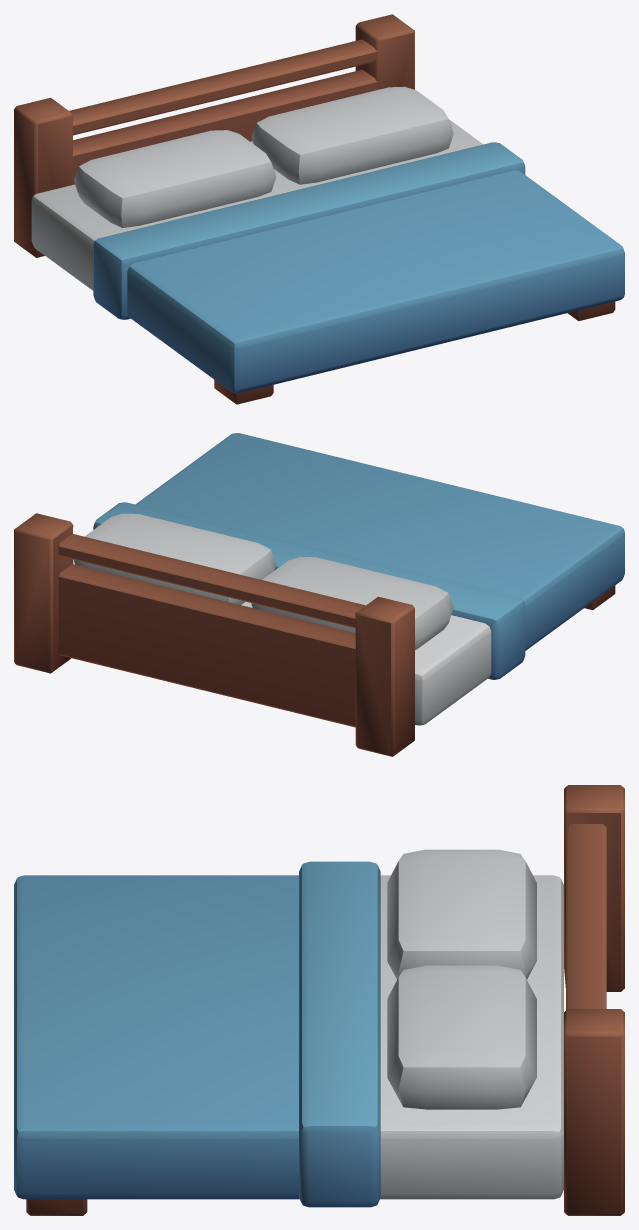
File: K_bed_double_A.glb
3 renders of one model, top to bottom at view 1: azimuth 30°, elevation 25°; view 2: azimuth 150°, elevation 25°; view 3: azimuth 270°, elevation 25°, orthographic. The views are drawn at different scales.
Visible parts, largest first — view 1: bed_double_A; view 2: bed_double_A; view 3: bed_double_A.
Part boxes in pixels (box(x1,y1,x2,y2)): bed_double_A: box(14, 14, 624, 404); bed_double_A: box(14, 433, 624, 756); bed_double_A: box(14, 785, 624, 1215).
Size of the model in its own units: 3.1 by 1 by 3.
